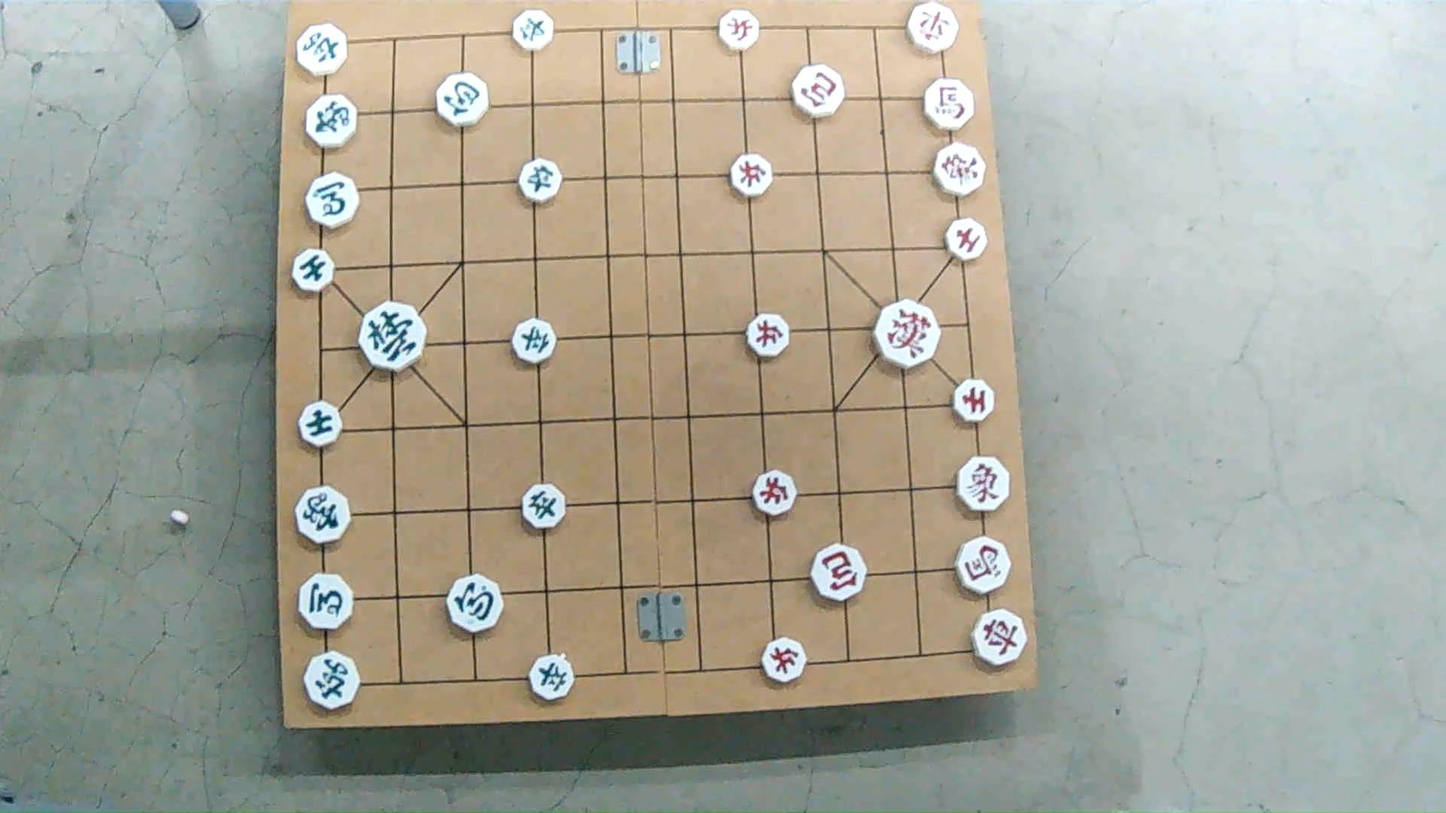cha_green: (301, 652, 364, 711), (299, 23, 349, 75)
cha_red: (974, 609, 1030, 667), (907, 1, 957, 52)
jol_green: (529, 656, 578, 700), (509, 322, 556, 365), (523, 484, 568, 528), (520, 161, 564, 202), (514, 11, 557, 50)
jol_red: (762, 641, 809, 684), (753, 470, 800, 513), (746, 317, 792, 359), (727, 157, 770, 197), (716, 10, 758, 49)
ma_green: (297, 575, 353, 629), (307, 174, 359, 225)
ma_red: (956, 540, 1011, 594), (923, 79, 978, 129)
po_green: (449, 577, 505, 632), (432, 75, 486, 125)
po_red: (810, 547, 865, 601), (789, 65, 843, 117)
sa_green: (290, 250, 336, 292), (298, 400, 342, 443)
sa_red: (954, 379, 996, 422), (941, 221, 987, 258)
sang_green: (304, 95, 364, 146), (297, 489, 352, 543)
sang_red: (935, 142, 986, 193), (959, 456, 1010, 507)
wang_green: (361, 303, 429, 367)
wang_red: (873, 303, 941, 364)
